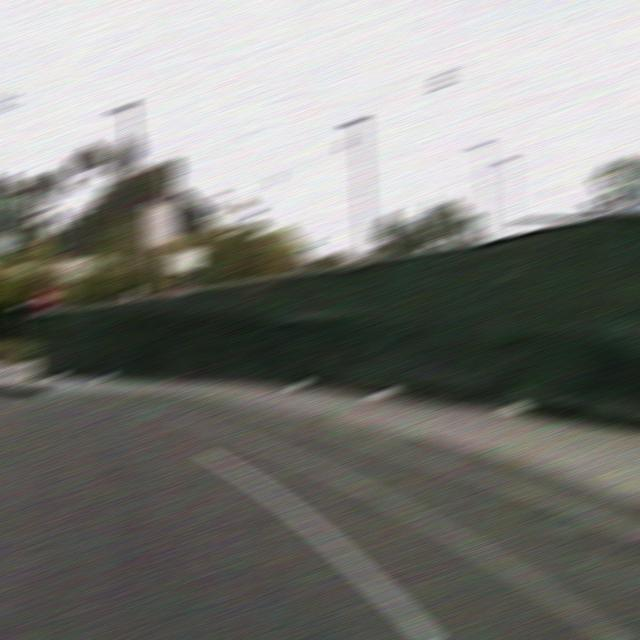stop_sign: (32, 284, 58, 311)
